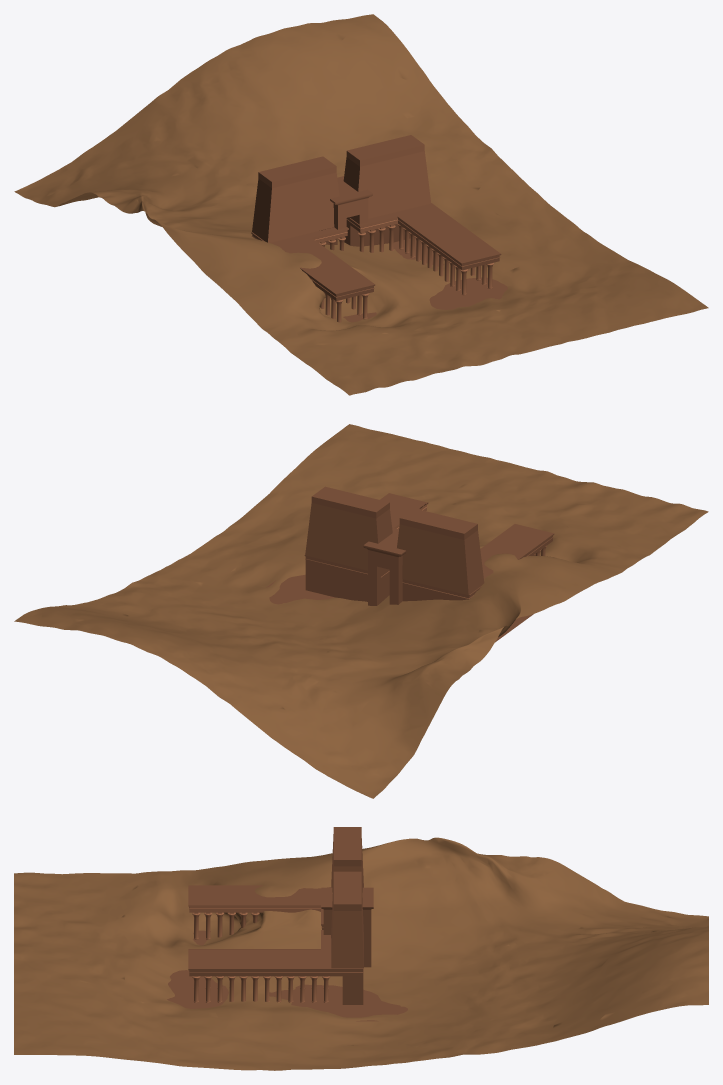
The picture shows the model from 3 angles, top to bottom: view 1: azimuth 30°, elevation 25°; view 2: azimuth 150°, elevation 25°; view 3: azimuth 270°, elevation 25°; orthographic projection. The views are drawn at different scales.
Visible parts, largest first — view 1: Plane004, Object004_sand2_0, Object004_sand_0, Object024_sand2_0; view 2: Plane004, Object004_sand2_0 (×2), Object005_sand2_0 (×2); view 3: Plane004, Object004_sand2_0, Object024_sand2_0, Object007_sand2_0, Object005_sand2_0.
Boxes of the visible parts, left/top/right/bottom form: Plane004: left=14, top=14, right=708, bottom=395; Object004_sand2_0: left=251, top=135, right=507, bottom=322; Object004_sand_0: left=268, top=145, right=431, bottom=242; Object024_sand2_0: left=319, top=223, right=493, bottom=295; Plane004: left=14, top=424, right=708, bottom=798; Object004_sand2_0 (×2): left=266, top=486, right=554, bottom=642; Object005_sand2_0 (×2): left=363, top=538, right=406, bottom=605; Plane004: left=14, top=837, right=708, bottom=1070; Object004_sand2_0: left=167, top=827, right=407, bottom=1021; Object024_sand2_0: left=192, top=976, right=330, bottom=1002; Object007_sand2_0: left=188, top=905, right=320, bottom=949; Object005_sand2_0: left=362, top=887, right=373, bottom=967.
Size of the model in its own units: 1041 by 342 by 1684.
